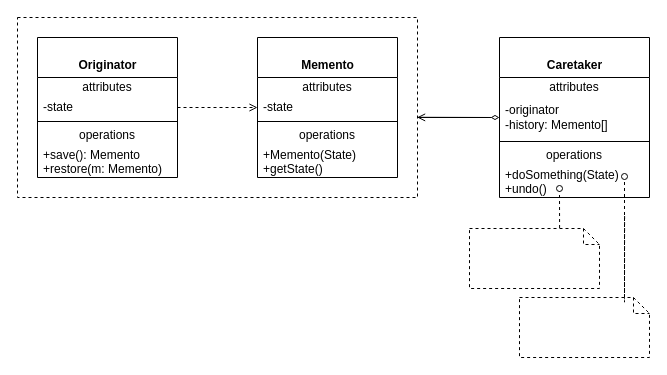
This 667x375 diagram has some shape labels left out. The centre of each missing label's shape, as x and y in pixels:
"m = history.pop() originator.restore(m)" belongs at (x=534, y=258).
"m = originator.save() history.push(m)" belongs at (x=584, y=327).
